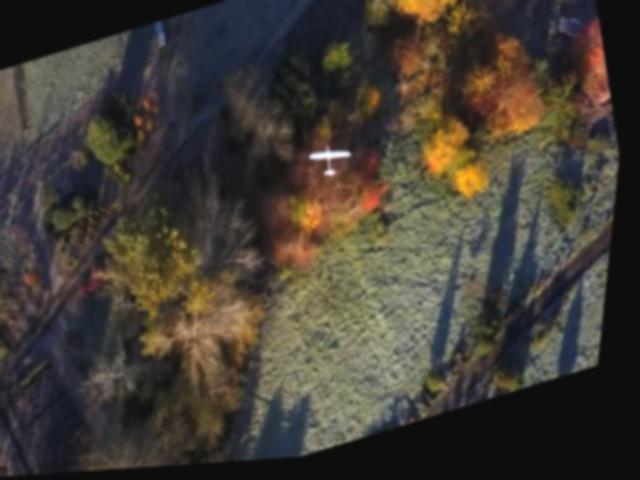uav: (302, 135, 368, 195)
